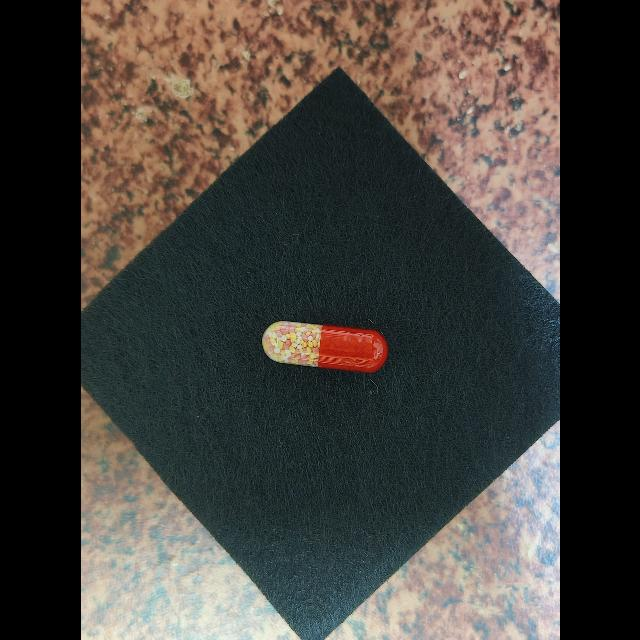Intact Capsule: (261, 321, 387, 373)
